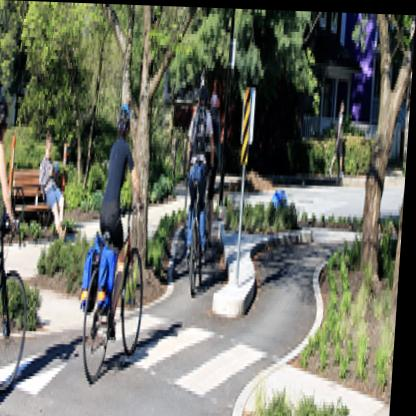With Helmet: (115, 96, 135, 142)
